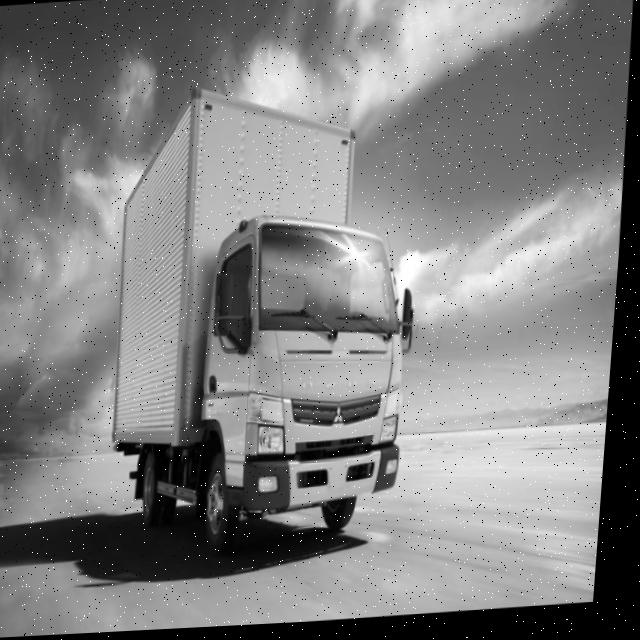truck: (169, 184, 438, 551)
